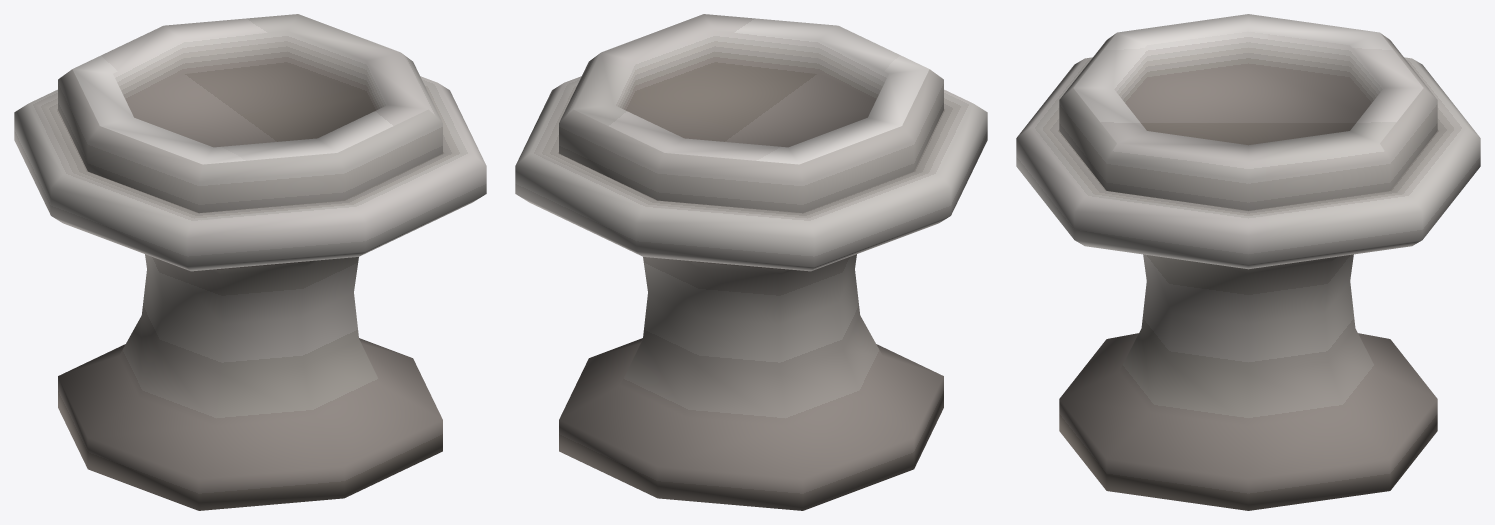
Rendered from DL_Obj_Level5_AltarCircle.fbx.
3 renders of one model, left to right at view 1: azimuth 30°, elevation 25°; view 2: azimuth 150°, elevation 25°; view 3: azimuth 270°, elevation 25°, orthographic.
Parts seen in each view (by area): view 1: Level5_AltarCircle; view 2: Level5_AltarCircle; view 3: Level5_AltarCircle.
Part boxes in pixels (x1,y1,x2,y2): Level5_AltarCircle: (14, 14, 486, 510); Level5_AltarCircle: (515, 14, 987, 510); Level5_AltarCircle: (1016, 14, 1480, 510).
Bounding box in the file's own units: 123 × 100 × 123.
